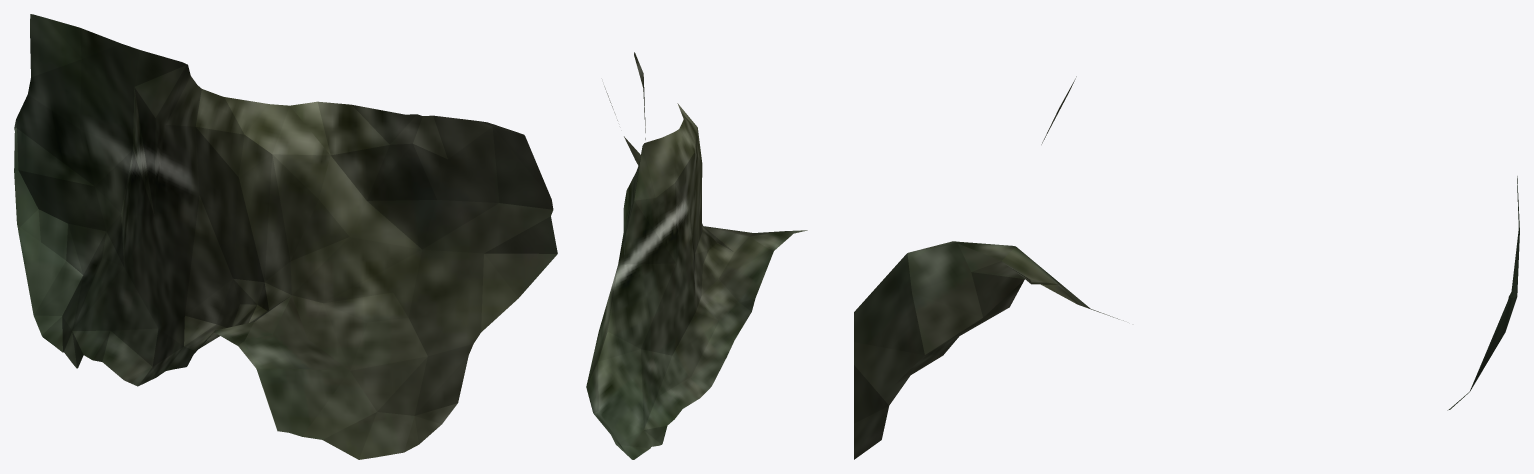
3 renders of one model, left to right at view 1: azimuth 30°, elevation 25°; view 2: azimuth 150°, elevation 25°; view 3: azimuth 270°, elevation 25°, orthographic. The views are drawn at different scales.
Size of the model in its own units: 1.06 by 1.15 by 1.72.
1 material, 1 textured.
